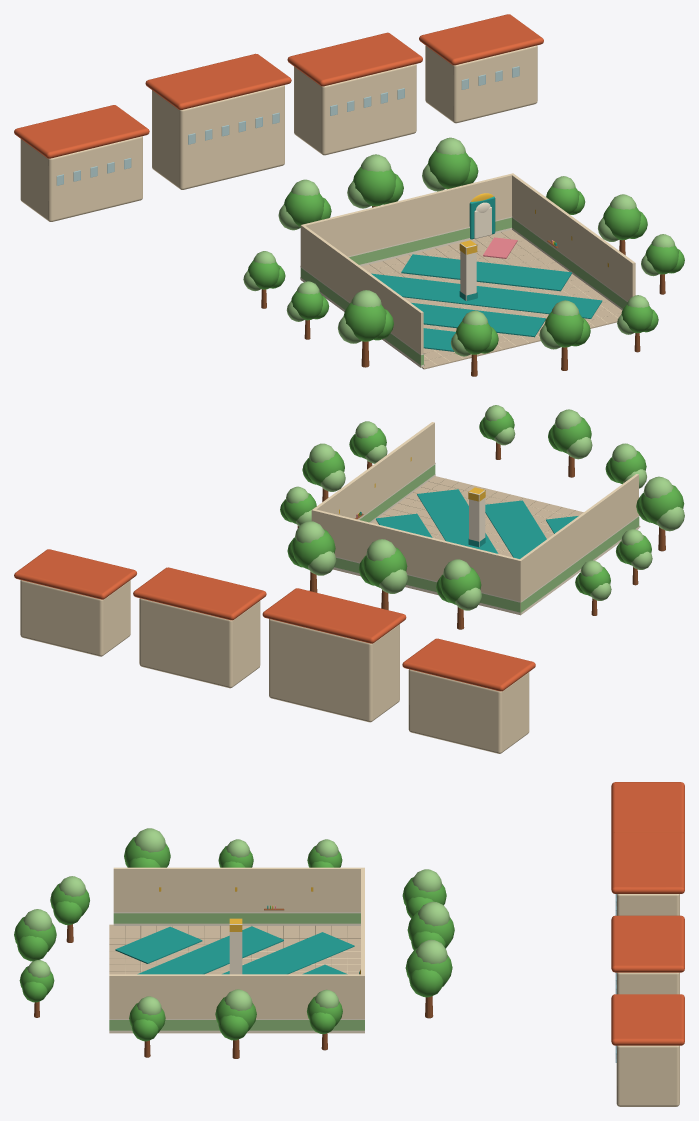
File: musolla.glb
3 renders of one model, top to bottom at view 1: azimuth 30°, elevation 25°; view 2: azimuth 150°, elevation 25°; view 3: azimuth 270°, elevation 25°, orthographic. The views are drawn at different scales.
Parts seen in each view (by area): view 1: Wall-col.002, Block1.005, Saf.001, Block2.005, Block0.005, Floor-col.008, Block3.004, Block1Roof.005, Block2Roof.005, Block0Roof.005, Block3Roof.004, Wall-col.002Wain (+15 smaller); view 2: Wall-col.002, Block1.005, Block2.005, Block0.005, Block3.004, Saf.001, Block1Roof.005, Block0Roof.005, Block2Roof.005, Block3Roof.004, Floor-col.008, Wall-col.002Wain (+10 smaller); view 3: Wall-col.002, Saf.001, Floor-col.008, Block1Roof.005, Wall-col.002Wain, Block2Roof.005, Block3.004, Block3Roof.004, Block0Roof.005, Block2.005, Block1.005, Wall-col.002Base (+18 smaller).
Part boxes in pixels (x1,y1,x2,y2): Wall-col.002: (300, 173, 635, 367); Block1.005: (152, 85, 284, 189); Saf.001: (371, 254, 602, 351); Block2.005: (294, 64, 416, 155); Block0.005: (20, 136, 142, 221); Floor-col.008: (361, 229, 622, 369); Block3.004: (425, 45, 537, 123); Block1Roof.005: (145, 53, 291, 109); Block2Roof.005: (287, 32, 422, 86); Block0Roof.005: (14, 105, 149, 158); Block3Roof.004: (419, 14, 543, 65); Wall-col.002Wain: (300, 217, 627, 366); Wall-col.002: (311, 422, 638, 615); Block1.005: (269, 619, 399, 722); Block2.005: (139, 598, 260, 688); Block0.005: (408, 669, 529, 753); Block3.004: (20, 580, 130, 656); Saf.001: (376, 489, 578, 558); Block1Roof.005: (262, 588, 406, 643); Block0Roof.005: (402, 638, 535, 691); Block2Roof.005: (133, 567, 266, 620); Block3Roof.004: (14, 549, 136, 599); Floor-col.008: (372, 476, 640, 557); Wall-col.002Wain: (334, 464, 639, 613); Wall-col.002: (109, 867, 364, 1033); Saf.001: (115, 926, 354, 974); Floor-col.008: (109, 924, 360, 974); Block1Roof.005: (611, 832, 684, 893); Wall-col.002Wain: (109, 913, 364, 1030); Block2Roof.005: (611, 915, 684, 972); Block3.004: (616, 1045, 679, 1106); Block3Roof.004: (611, 994, 684, 1045); Block0Roof.005: (611, 782, 684, 834); Block2.005: (616, 972, 679, 994); Block1.005: (616, 894, 679, 915); Wall-col.002Base: (109, 923, 364, 1032).
Size of what is drawn, in the model's own units: 47.3 by 8.1 by 52.92.
